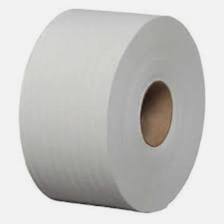tissue: (12, 3, 209, 217)
